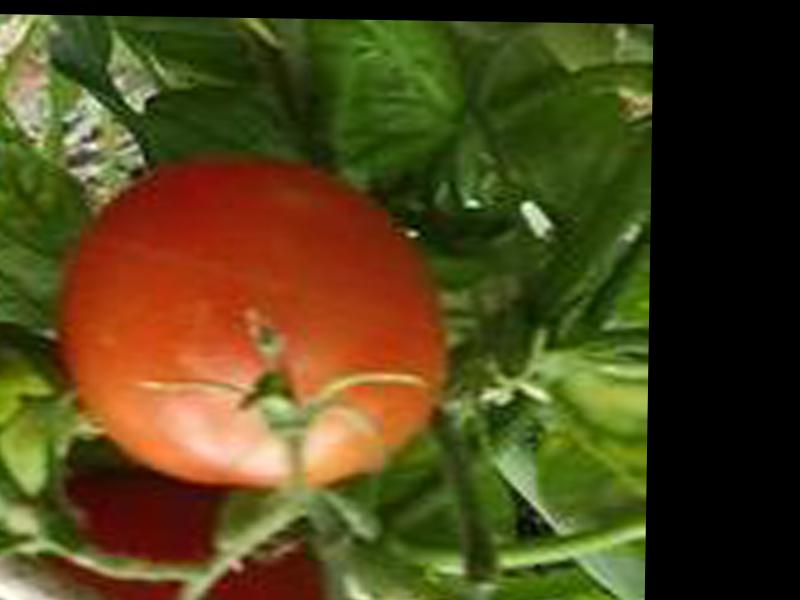Tomato: (62, 164, 445, 492)
